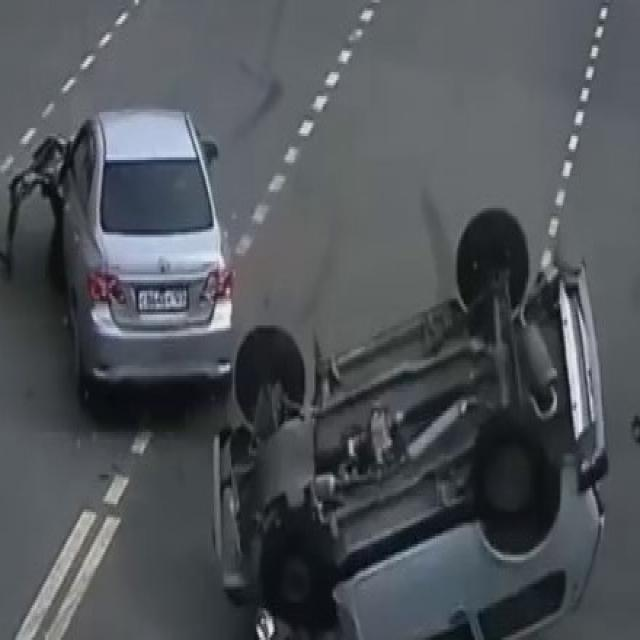accident: (226, 290, 606, 640)
